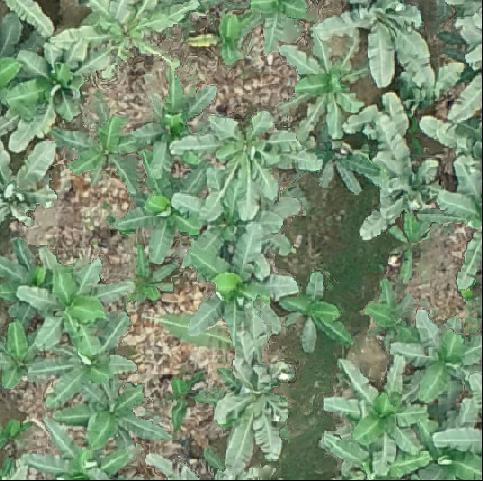Banana-plant: (182, 226, 297, 358), (168, 115, 301, 221), (330, 354, 424, 464), (314, 1, 427, 91), (206, 360, 294, 474), (363, 103, 436, 237), (121, 157, 209, 258), (26, 320, 144, 395), (392, 311, 483, 401), (54, 383, 173, 449), (136, 75, 213, 173), (83, 0, 195, 67), (22, 274, 133, 341), (284, 41, 369, 128), (15, 43, 107, 119), (34, 415, 133, 481), (283, 274, 355, 356), (408, 403, 483, 481), (56, 120, 139, 189), (0, 143, 58, 227), (312, 139, 379, 194)
